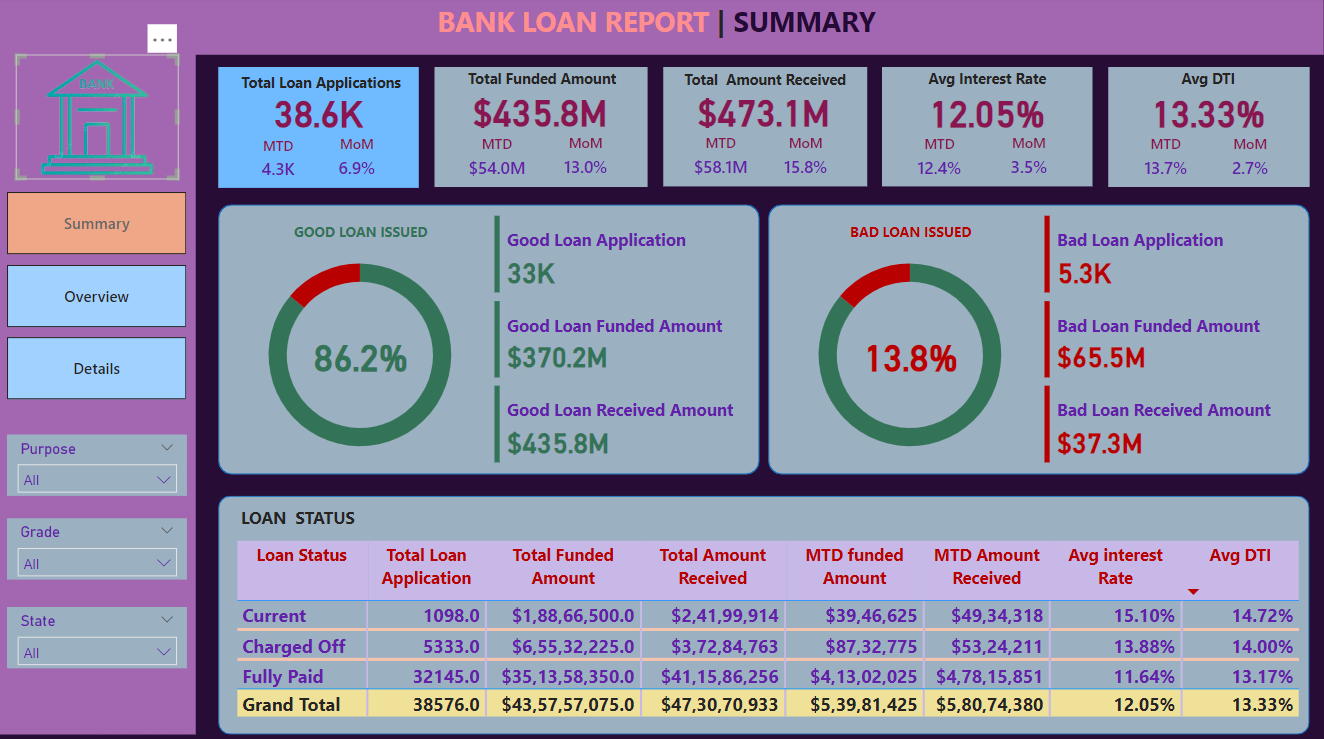

This screenshot's page, from the dashboard's own definition file:
{"tool":"powerbi","page":{"name":"Page 1","canvas":[1280,720],"ordinal":0},"visuals":[{"type":"shape","box":[0,0,1280,55.7],"z":0},{"type":"textbox","box":[420,0,441.4,55.7],"z":2000},{"type":"shape","box":[214.1,67.2,193.5,116.6],"z":3000},{"type":"shape","box":[422.1,67.2,205.8,115.8],"z":4000},{"type":"card","fields":{"Values":["bank_loan_data.Total Loan Application"]},"box":[213.5,88,194.2,44.6],"z":5000},{"type":"shape","box":[642.5,67.2,196.9,115.2],"z":6000},{"type":"textbox","box":[215.4,67.2,193.5,28.8],"z":7000},{"type":"shape","box":[854,67.2,203.1,115.3],"z":8000},{"type":"card","title":"MTD","fields":{"Values":["bank_loan_data.MTD Loan Application"]},"box":[230.4,133.9,82,50.7],"z":9000},{"type":"shape","box":[1071.7,67.2,194.3,115.8],"z":10000},{"type":"card","title":"MoM","fields":{"Values":["bank_loan_data.MOM Loan Application"]},"box":[312.4,132.7,69.9,50.7],"z":11000},{"type":"card","fields":{"Values":["bank_loan_data.Total Funded Amount"]},"box":[422.1,88,203.8,43.4],"z":12000},{"type":"card","title":"MTD","fields":{"Values":["bank_loan_data.MTD funded Amount"]},"box":[439,132.7,86.8,50.7],"z":13000},{"type":"textbox","box":[424.5,63.9,202.6,28.9],"z":14000},{"type":"card","fields":{"Values":["bank_loan_data.Total Amount Received"]},"box":[642.8,88,194.2,43.4],"z":15000},{"type":"card","title":"MoM","fields":{"Values":["bank_loan_data.MOM funded Amount"]},"box":[525.8,131.5,84.4,51.9],"z":16000},{"type":"card","fields":{"Values":["bank_loan_data.Avg interest Rate"]},"box":[853.9,88,202.6,44.6],"z":17000},{"type":"card","fields":{"Values":["bank_loan_data.Avg DTI"]},"box":[1072.2,88,193,44.6],"z":18000},{"type":"card","title":"MTD","fields":{"Values":["bank_loan_data.MTD Amount Received"]},"box":[656.1,131.5,84.4,51.9],"z":19000},{"type":"card","title":"MTD","fields":{"Values":["bank_loan_data.MTD Avg interest rate"]},"box":[863.5,132.7,91.7,50.7],"z":20000},{"type":"card","title":"MTD","fields":{"Values":["bank_loan_data.MTD Avg DTI"]},"box":[1086.6,132.7,82,50.7],"z":21000},{"type":"textbox","box":[642.8,65.1,196.6,31.4],"z":22000},{"type":"textbox","box":[854.2,63.9,203.1,34.3],"z":23000},{"type":"textbox","box":[1072.2,63.9,193,28.9],"z":24000},{"type":"card","title":"MoM","fields":{"Values":["bank_loan_data.MOM Amount Received"]},"box":[740.5,131.5,79.6,51.9],"z":25000},{"type":"card","title":"MoM","fields":{"Values":["bank_loan_data.MOM avg interest rate"]},"box":[955.2,131.5,80.8,51.9],"z":26000},{"type":"card","title":"MoM","fields":{"Values":["bank_loan_data.MOM Avg DTI"]},"box":[1168.6,132.7,80.8,50.7],"z":27000},{"type":"shape","box":[213.5,200.2,522.2,260.5],"z":28000},{"type":"shape","box":[744.1,200.2,522.2,260.5],"z":29000},{"type":"donutChart","fields":{"Category":["bank_loan_data.Good vs Bad loan"],"Y":["bank_loan_data.Total Loan Application"]},"box":[225.5,230.4,249.6,230.4],"z":30000},{"type":"card","fields":{"Values":["bank_loan_data.% Good Applications"]},"box":[283.4,323.2,135.1,44.6],"z":31000},{"type":"donutChart","fields":{"Category":["bank_loan_data.Good vs Bad loan"],"Y":["bank_loan_data.Total Loan Application"]},"box":[756.2,230.4,249.6,230.4],"z":32000},{"type":"card","fields":{"Values":["bank_loan_data.% Bad Applications"]},"box":[814.1,323.2,135.1,44.6],"z":33000},{"type":"cardVisual","title":"Bad","fields":{"Data":["bank_loan_data.Bad Loan Application","bank_loan_data.Bad Loan Funded Amount","bank_loan_data.Bad Loan Received Amount"]},"box":[1005.8,206.2,255.7,248.4],"z":34000},{"type":"textbox","box":[261.7,212.3,178.5,28.9],"z":35000},{"type":"shape","box":[0,47,191.8,664.5],"z":35500},{"type":"textbox","box":[782.7,212.3,197.8,27.7],"z":36000},{"type":"cardVisual","title":"Bad","fields":{"Data":["bank_loan_data.Good Loan Application","bank_loan_data.Good Loan Funded Amount","bank_loan_data.Good Loan Received Amount"]},"box":[475.2,206.2,255.7,248.4],"z":37000},{"type":"shape","title":"LOAN STATU","box":[213.5,481.2,1052.9,230.4],"z":38000},{"type":"tableEx","fields":{"Values":["bank_loan_data.loan_status","bank_loan_data.Total Loan Application","bank_loan_data.Total Funded Amount","bank_loan_data.Total Amount Received","bank_loan_data.MTD funded Amount","bank_loan_data.MTD Amount Received","bank_loan_data.Avg interest Rate","bank_loan_data.Avg DTI"]},"box":[225.5,519.8,1036,182.1],"z":39000},{"type":"textbox","box":[230.4,486,130.3,33.8],"z":40000},{"type":"slicer","fields":{"Values":["bank_loan_data.grade"]},"box":[9.6,502.9,173.7,59.1],"z":45000},{"type":"slicer","fields":{"Values":["bank_loan_data.address_state"]},"box":[9.6,588.5,173.7,59.1],"z":45500},{"type":"slicer","fields":{"Values":["bank_loan_data.purpose"]},"box":[9.6,422.1,173.7,59.1],"z":46000}]}

Visuals, with their boxes in screenshot pixels (x1, y1, x2, y2), scaled from the page's 1280x720 canvas onto the 1324x739 screenshot:
shape: 0/0/1323/57
textbox: 434/0/891/57
shape: 221/69/422/189
shape: 437/69/649/188
card - bank_loan_data.Total Loan Application: 221/90/422/136
shape: 665/69/868/187
textbox: 223/69/423/99
shape: 883/69/1093/187
"MTD" card: 238/137/323/189
shape: 1109/69/1310/188
"MoM" card: 323/136/395/188
card - bank_loan_data.Total Funded Amount: 437/90/647/135
"MTD" card: 454/136/544/188
textbox: 439/66/649/95
card - bank_loan_data.Total Amount Received: 665/90/866/135
"MoM" card: 544/135/631/188
card - bank_loan_data.Avg interest Rate: 883/90/1093/136
card - bank_loan_data.Avg DTI: 1109/90/1309/136
"MTD" card: 679/135/766/188
"MTD" card: 893/136/988/188
"MTD" card: 1124/136/1209/188
textbox: 665/67/868/99
textbox: 884/66/1094/101
textbox: 1109/66/1309/95
"MoM" card: 766/135/848/188
"MoM" card: 988/135/1072/188
"MoM" card: 1209/136/1292/188
shape: 221/205/761/473
shape: 770/205/1310/473
donutChart - bank_loan_data.Good vs Bad loan x bank_loan_data.Total Loan Application: 233/236/491/473
card - bank_loan_data.% Good Applications: 293/332/433/378
donutChart - bank_loan_data.Good vs Bad loan x bank_loan_data.Total Loan Application: 782/236/1040/473
card - bank_loan_data.% Bad Applications: 842/332/982/378
"Bad" cardVisual: 1040/212/1305/467
textbox: 271/218/455/248
shape: 0/48/198/730
textbox: 810/218/1014/246
"Bad" cardVisual: 492/212/756/467
"LOAN STATU" shape: 221/494/1310/730
tableEx - bank_loan_data.loan_status x bank_loan_data.Total Loan Application: 233/534/1305/720
textbox: 238/499/373/534
slicer - bank_loan_data.grade: 10/516/190/577
slicer - bank_loan_data.address_state: 10/604/190/665
slicer - bank_loan_data.purpose: 10/433/190/494
